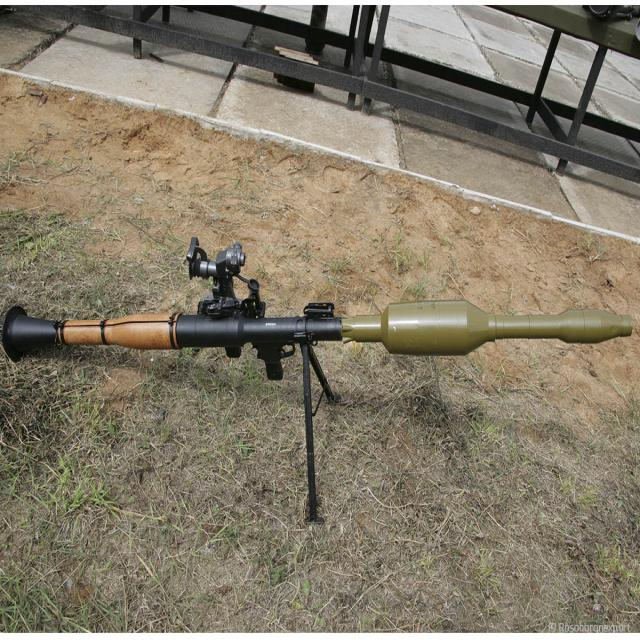Gun: (7, 224, 637, 526)
